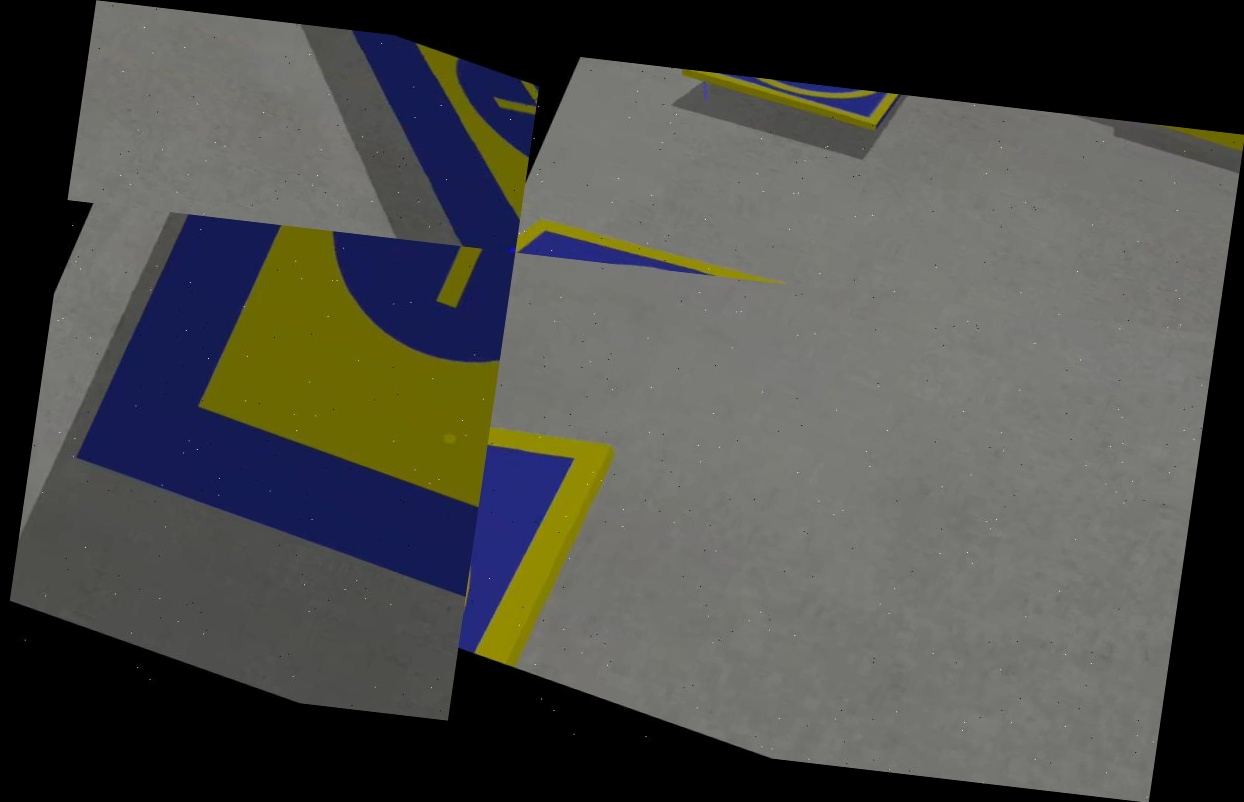large_base: (54, 205, 515, 630), (257, 22, 544, 253)
small_base: (456, 387, 628, 677), (677, 69, 917, 144)
